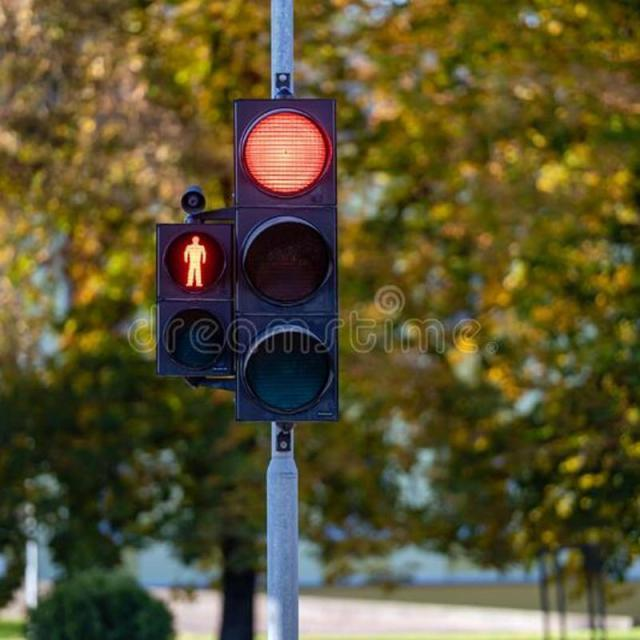red-crossing: (162, 227, 228, 295)
